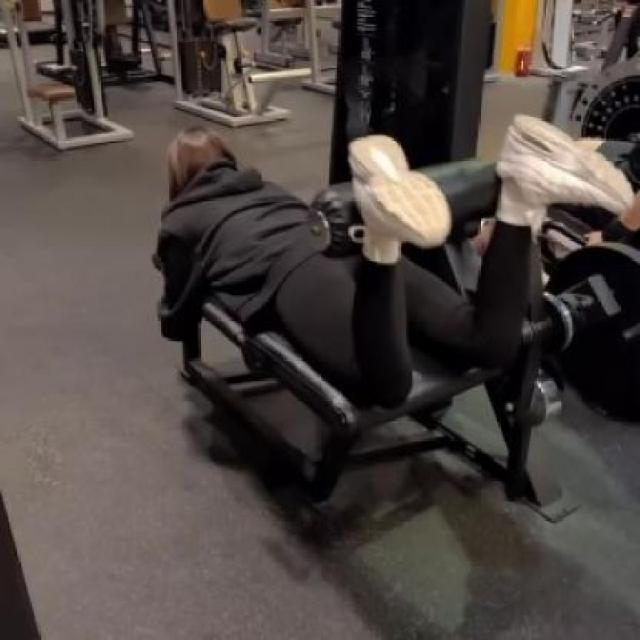reg curl machine: (143, 0, 640, 545)
